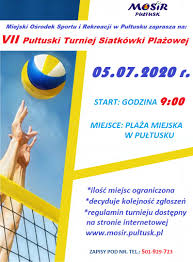ball: (20, 53, 67, 100)
